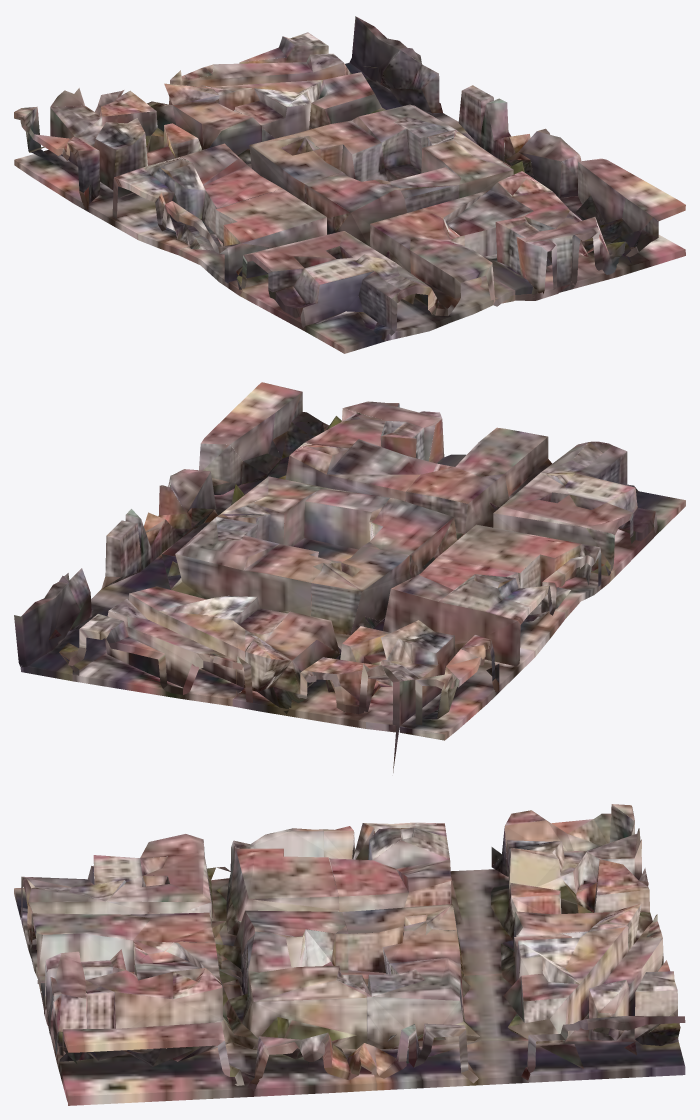
3 views of the same model, one above another, from view 1: azimuth 30°, elevation 25°; view 2: azimuth 150°, elevation 25°; view 3: azimuth 270°, elevation 25° (orthographic). The views are drawn at different scales.
Parts seen in each view (by area): view 1: Mesh_0; view 2: Mesh_0; view 3: Mesh_0.
Part boxes in pixels (box(x1,y1,x2,y2)): Mesh_0: box(14, 16, 685, 353); Mesh_0: box(14, 382, 685, 772); Mesh_0: box(14, 804, 685, 1105).
Size of the model in its own units: 266 by 60.6 by 330.
Materials: 2 (2 with a texture image).
